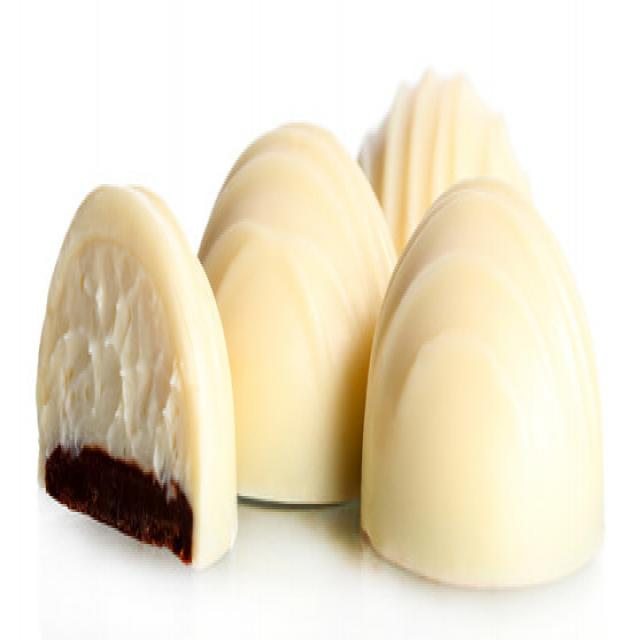Chocolate: (356, 170, 606, 596), (32, 177, 241, 560)
